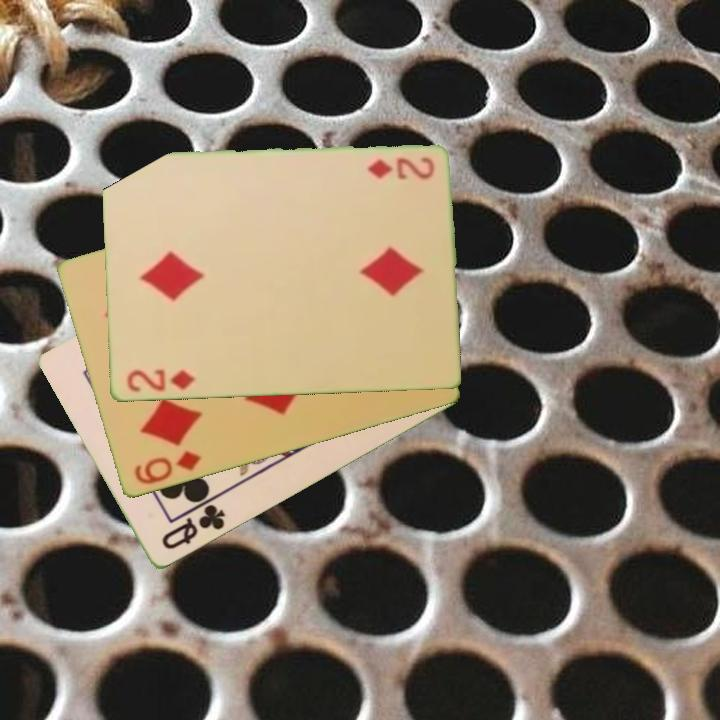2d: (123, 366, 197, 395), (364, 154, 438, 182)
6d: (130, 448, 204, 488)
Qc: (158, 501, 229, 553)
